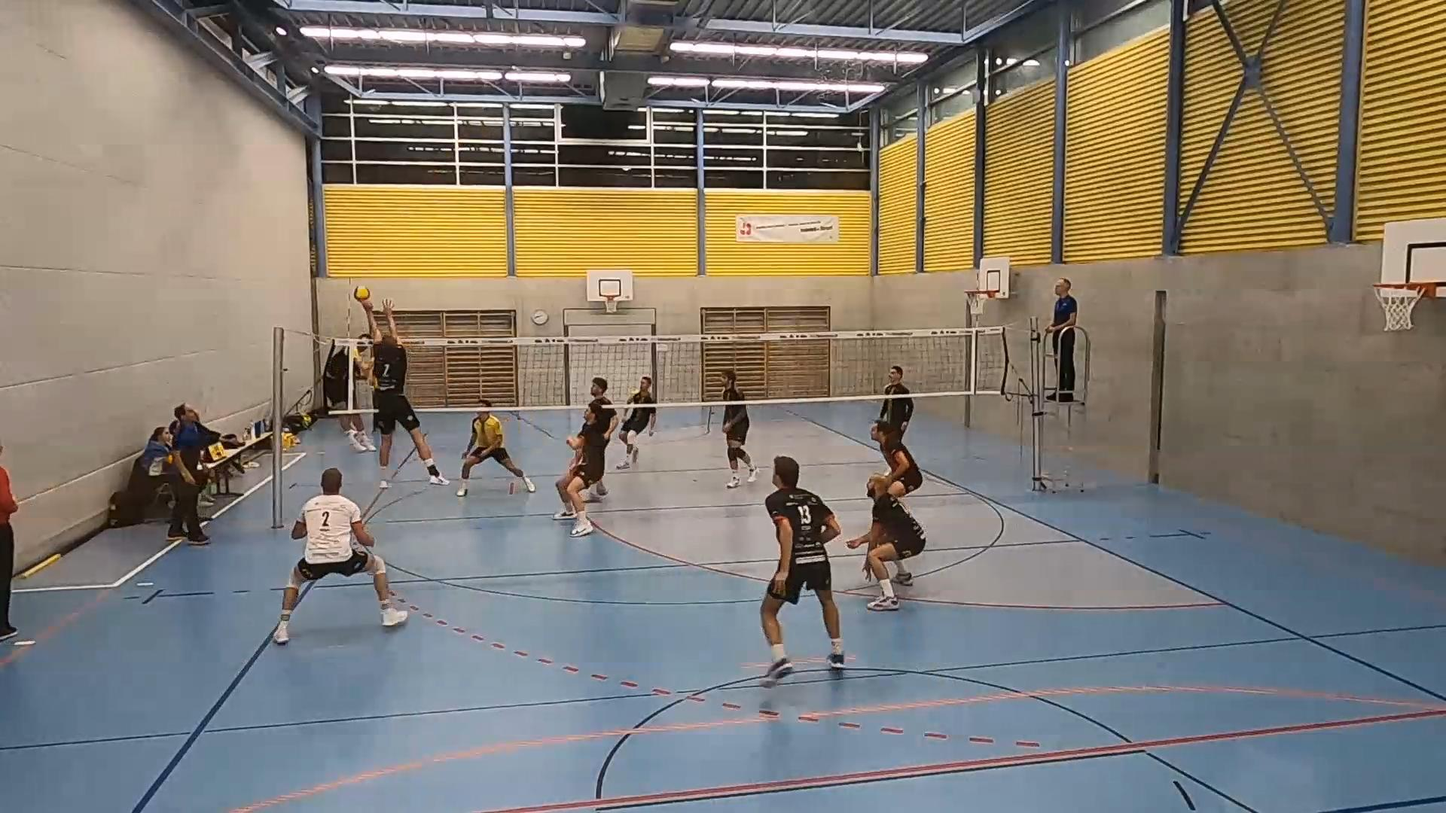Attack: (329, 315, 376, 458)
Block: (357, 304, 435, 490)
Player: (273, 469, 407, 644), (761, 456, 844, 687), (847, 475, 925, 611), (554, 400, 609, 537), (457, 400, 535, 496), (721, 370, 756, 488), (871, 423, 921, 498), (617, 376, 656, 470), (877, 365, 914, 438), (590, 377, 618, 456)
ball: (353, 283, 373, 300)
